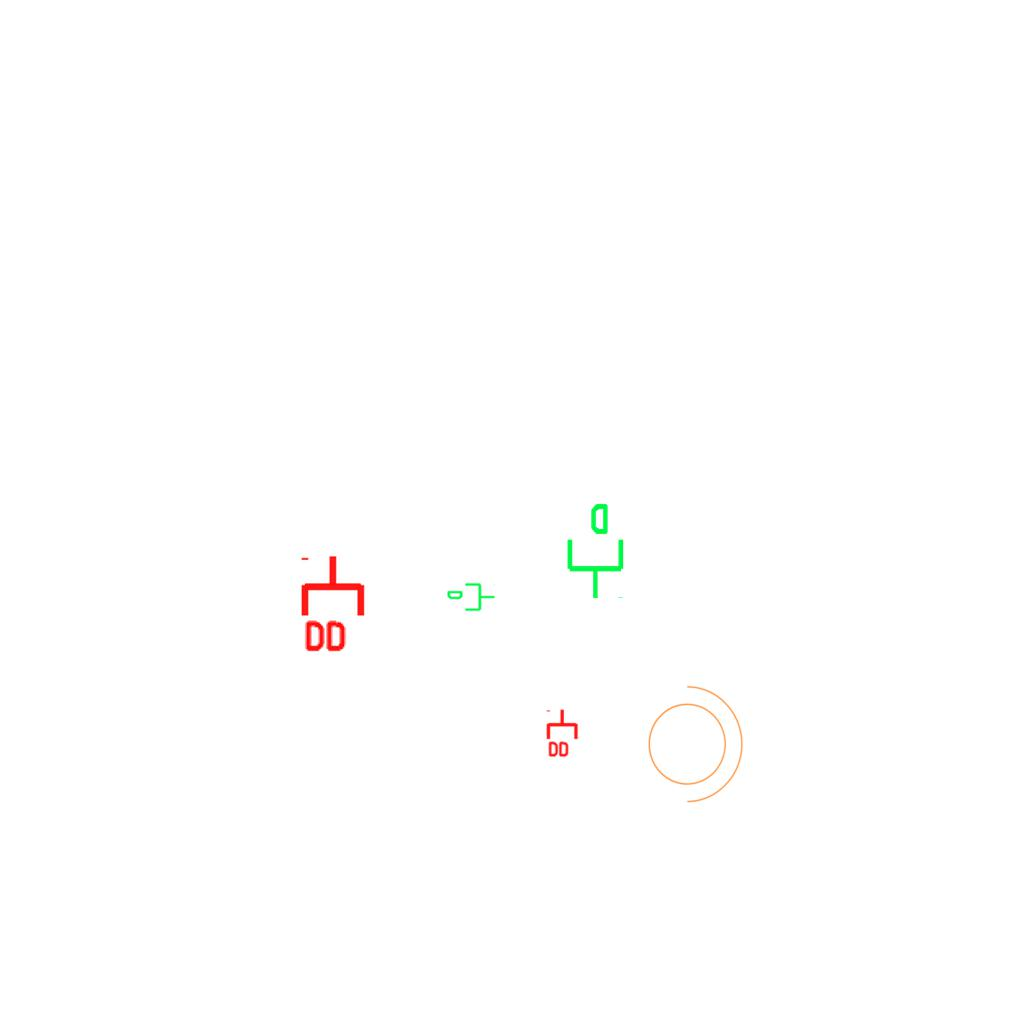Datenanschluss_einfach: (559, 501, 628, 601), (446, 581, 496, 615)
Datenanschluss_zweifach: (300, 553, 369, 656), (546, 708, 580, 759)
Scheinwerfer_fuer_Alarmbeleuchtung: (636, 675, 748, 807)
